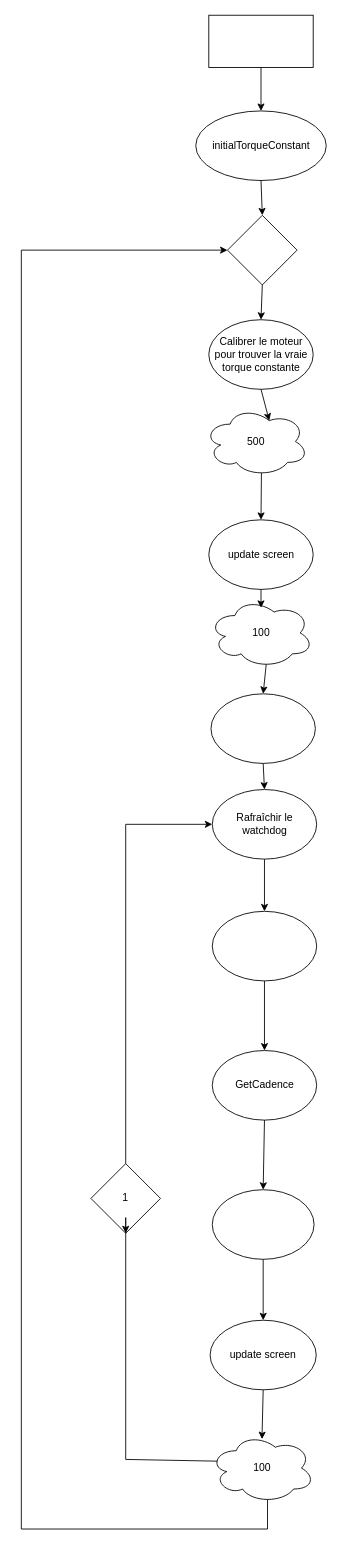
This 342x1551 diagram has some shape labels left out. The shapes that lost their labels are listed below. From the top down, each one's box as (x1, y1, x2, y2) in pixels, then its label:
(208, 14, 313, 67): Objet moteur
(227, 214, 297, 285): Main
(210, 693, 315, 763): Welcome
(211, 910, 317, 981): updateFromScreen
(211, 1189, 314, 1259): update
